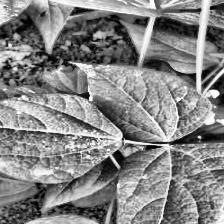ALS: (67, 62, 210, 143), (0, 92, 113, 185), (122, 149, 224, 224)
